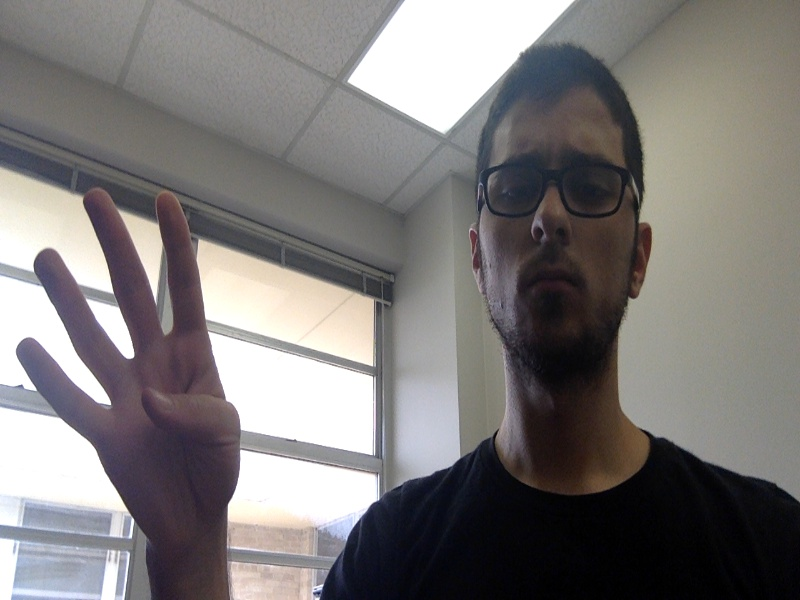4-hand: (16, 187, 241, 532)
